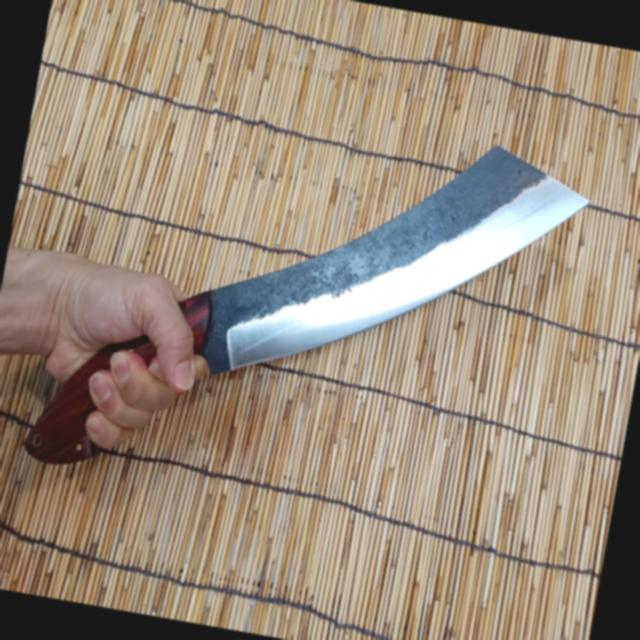eto: (0, 132, 601, 473)
